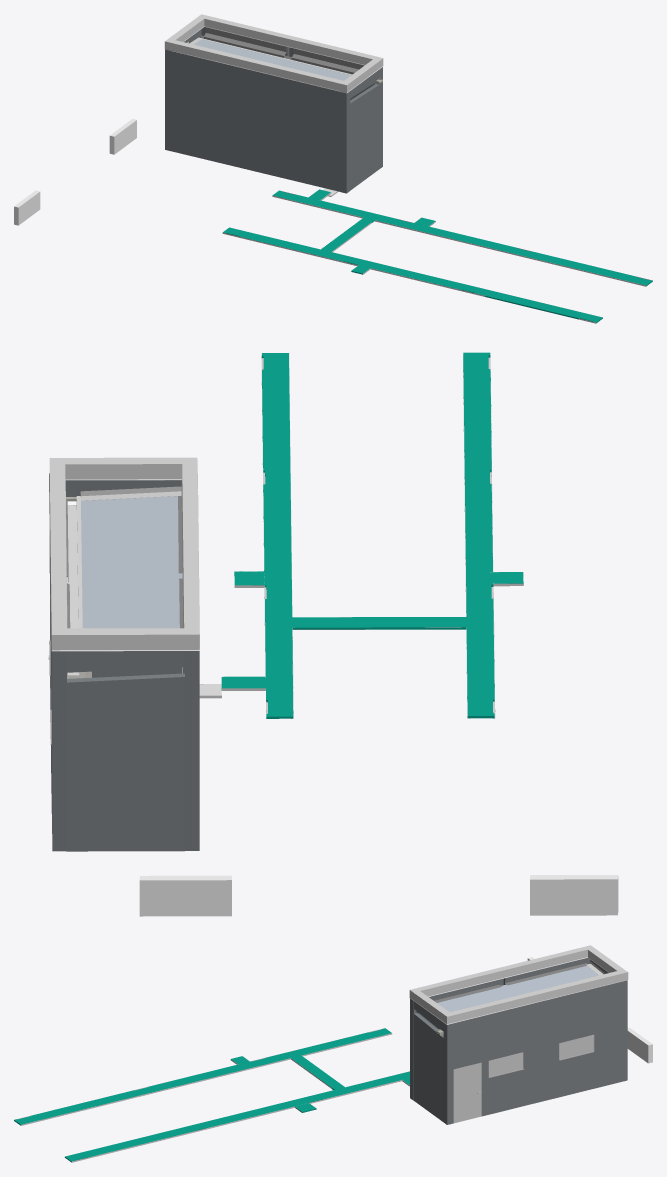
Rendered from pt-106-maquina-lavado-0002-v00.glb.
3 renders of one model, top to bottom at view 1: azimuth 30°, elevation 25°; view 2: azimuth 150°, elevation 25°; view 3: azimuth 270°, elevation 25°, orthographic. The views are drawn at different scales.
Size of the model in its own units: 17.38 by 4.79 by 23.55.
